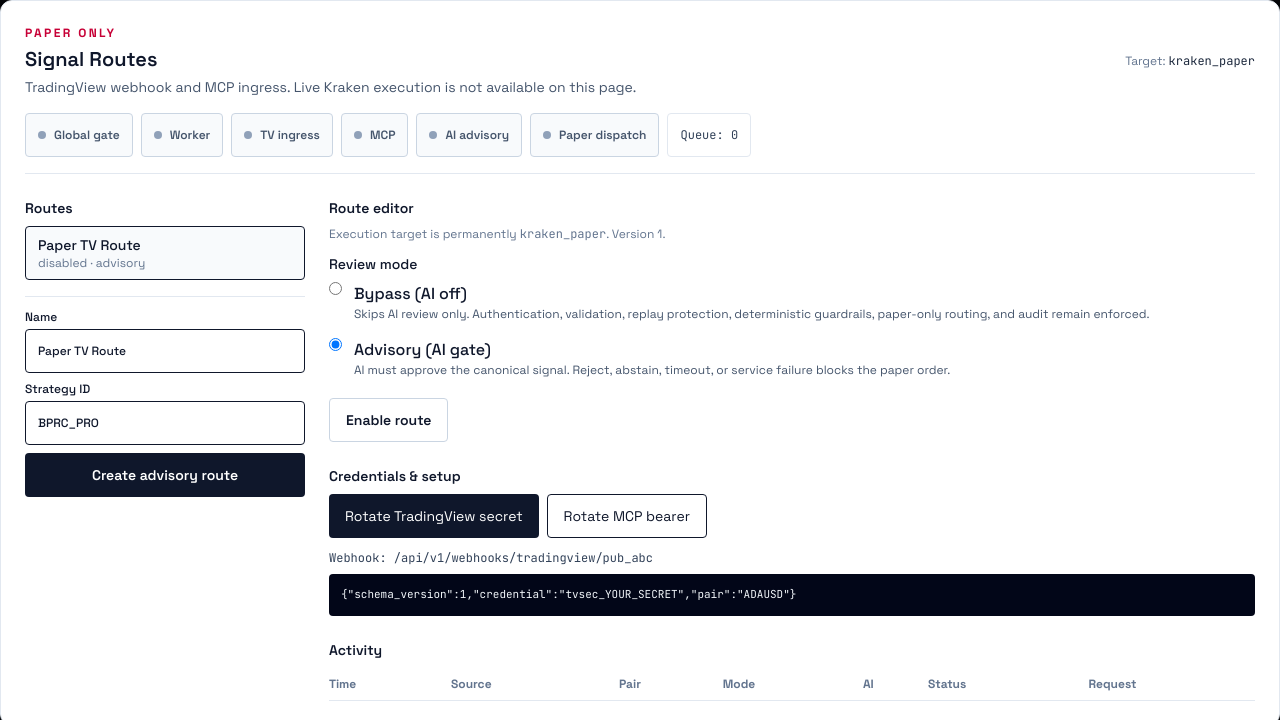
Test: SignalRoutesPage › reveals a one-time credential then masks it after dismiss
Click the button "Rotate TradingView secret". click: click(434, 516)
box: [329, 494, 539, 538]
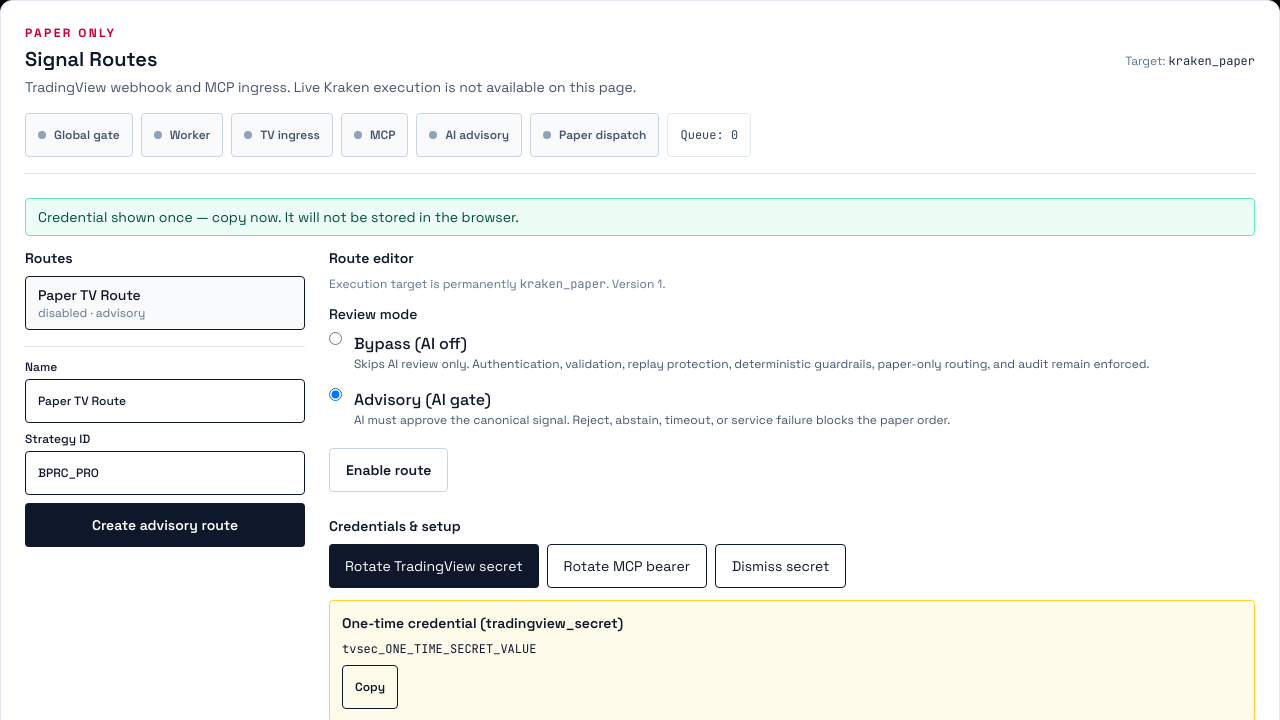
Check: the text "One-time credential (tradingview_secret)" is shown, box [342, 614, 623, 632]
Check: the text "tvsec_ONE_TIME_SECRET_VALUE" is shown, box [342, 641, 536, 657]
Click the button "Dismiss secret". click: click(781, 566)
box: [715, 544, 846, 588]
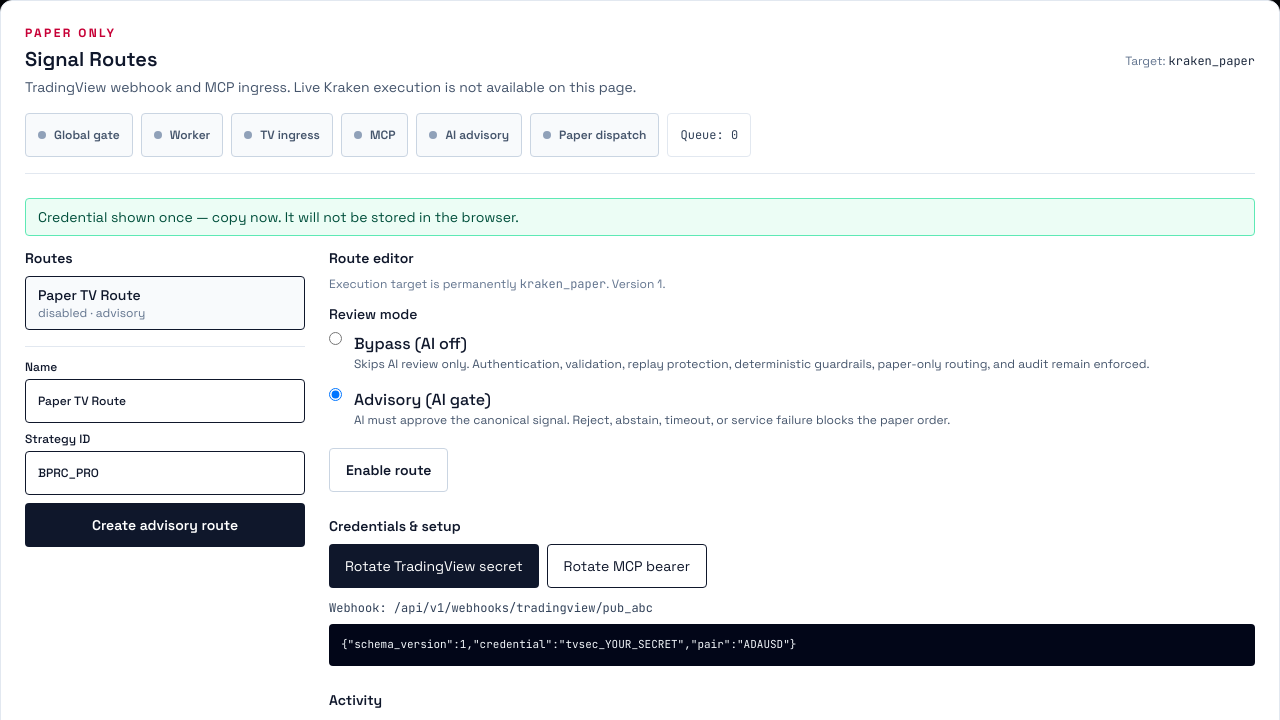
Check: the text "One-time credential" is gone
Check: the button "Dismiss secret" is gone
Check: the text "One-time credential (tradingview_secret)" is gone
